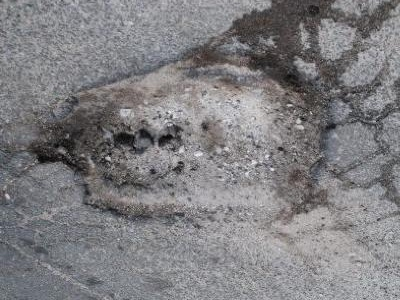pothole: (29, 43, 338, 227)
